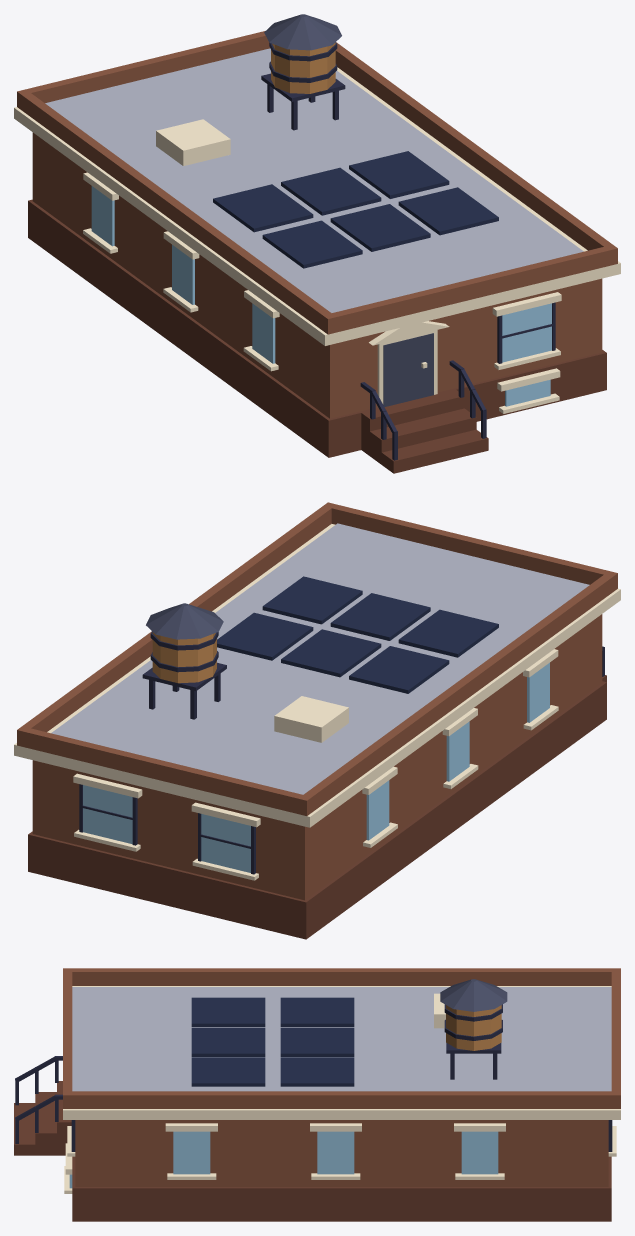
File: house-1x2-1f-brownstone-a-solar.glb
3 renders of one model, top to bottom at view 1: azimuth 30°, elevation 25°; view 2: azimuth 150°, elevation 25°; view 3: azimuth 270°, elevation 25°, orthographic. The views are drawn at different scales.
Parts seen in each view (by area): view 1: house-1x2-1f-brownstone-a-solar; view 2: house-1x2-1f-brownstone-a-solar; view 3: house-1x2-1f-brownstone-a-solar.
Boxes of the visible parts, x1,y1,x2,y2 form: house-1x2-1f-brownstone-a-solar: [14, 14, 620, 473]; house-1x2-1f-brownstone-a-solar: [14, 502, 620, 939]; house-1x2-1f-brownstone-a-solar: [14, 968, 620, 1221].
Bounding box in the file's own units: 1 × 0.743 × 1.98.
1 material, 1 textured.
